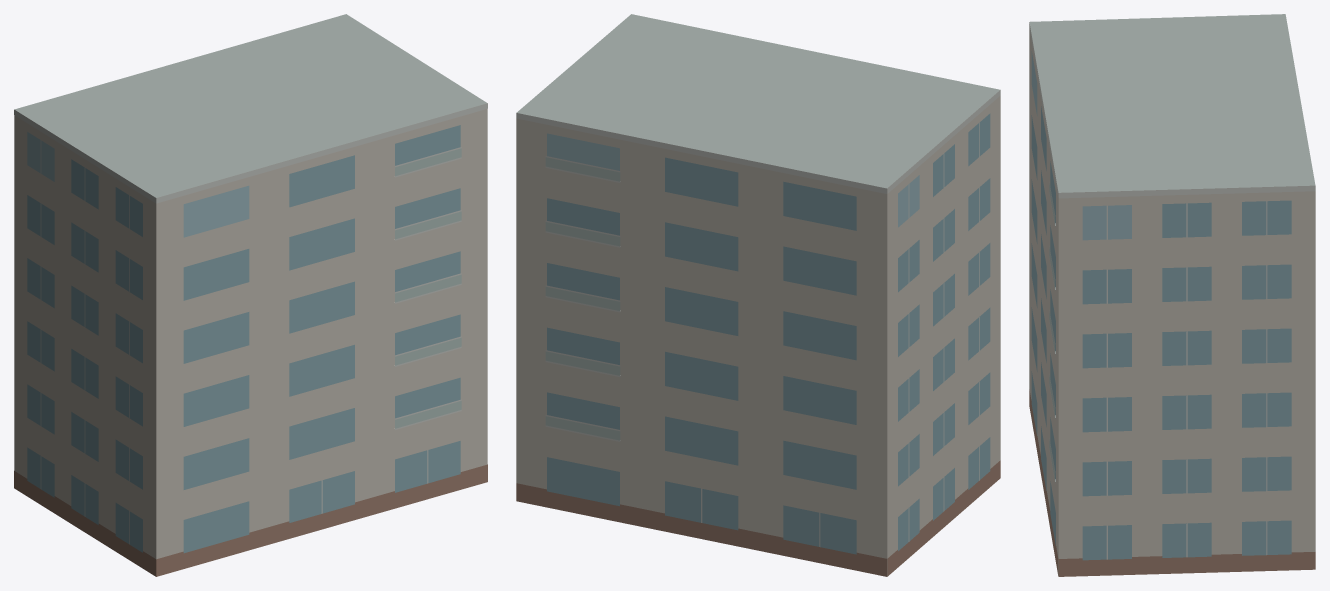
File: survey-upis-32744871.glb
3 views of the same model, side by side, from view 1: azimuth 30°, elevation 25°; view 2: azimuth 150°, elevation 25°; view 3: azimuth 270°, elevation 25° (orthographic). The views are drawn at different scales.
Parts seen in each view (by area): view 1: survey-upis-32744871.tmp; view 2: survey-upis-32744871.tmp; view 3: survey-upis-32744871.tmp.
Part boxes in pixels (left/top/right/bottom): survey-upis-32744871.tmp: left=14, top=14, right=487, bottom=576; survey-upis-32744871.tmp: left=516, top=14, right=1000, bottom=576; survey-upis-32744871.tmp: left=1029, top=14, right=1315, bottom=576.
Size of the model in its own units: 16.79 by 16.8 by 11.35.
